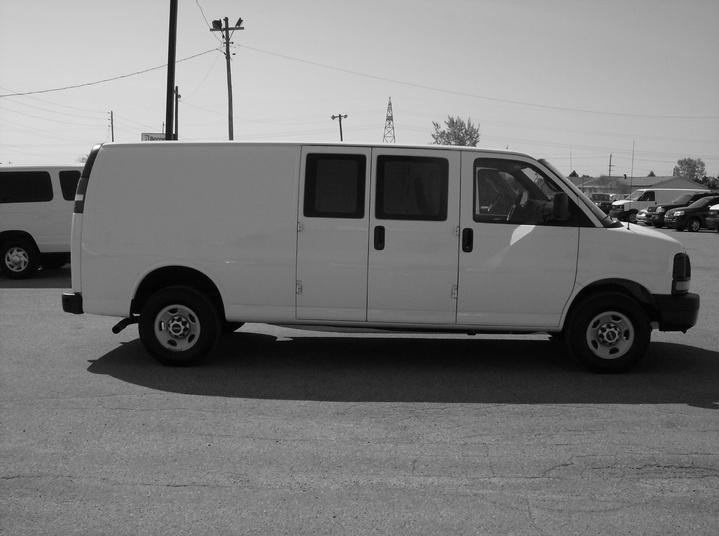car: (63, 138, 703, 371)
